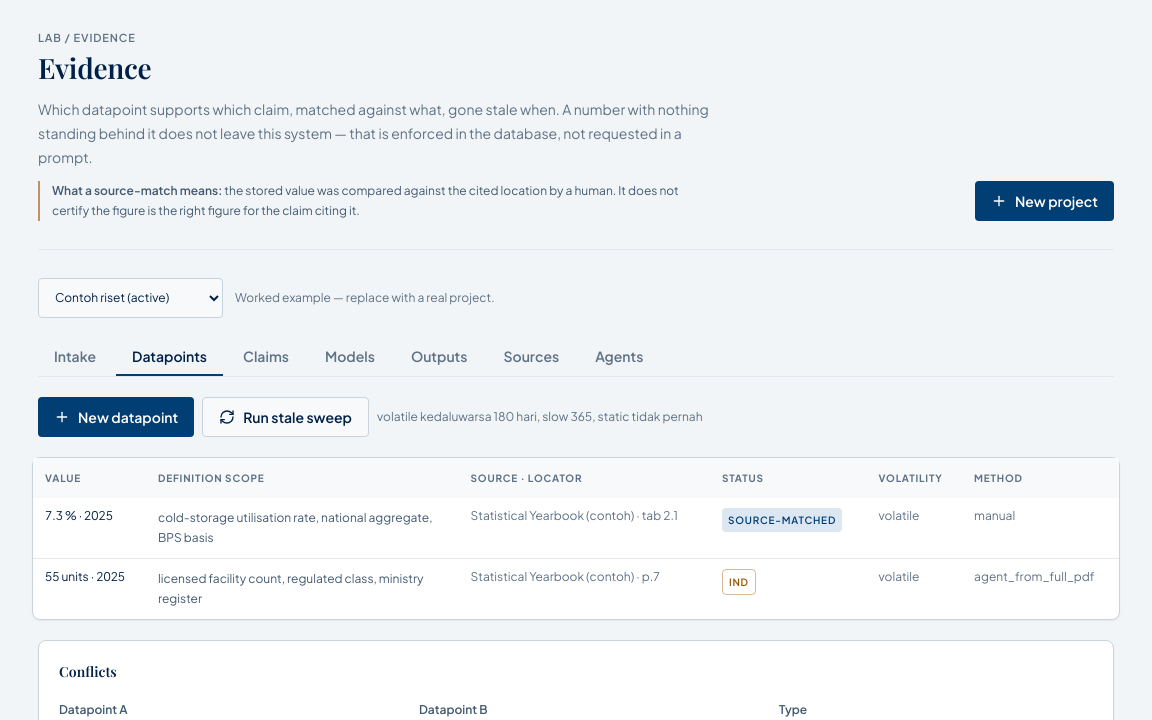
Test: a failed collection read reaches the tab as Could not check, with the error text › the failure darkens ONLY the tabs that read the collection
expect the text "Could not check" is not shown: met
Models DOES read it: the gate stands with the detail on screen.
Click the tab "Models" at (350, 357), box x1=309 y1=338 x2=391 y2=376
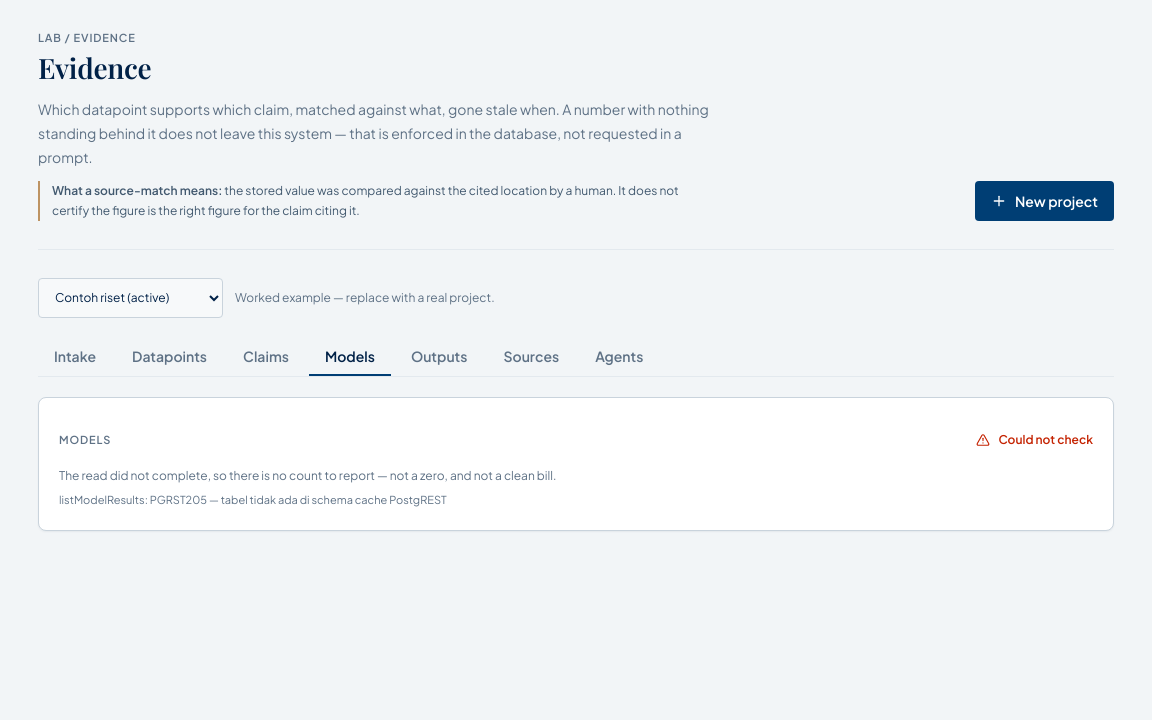
expect the text "Could not check" is shown: met, box x1=976 y1=432 x2=1093 y2=448
expect the text "PGRST205" is shown: met, box x1=59 y1=493 x2=447 y2=506
